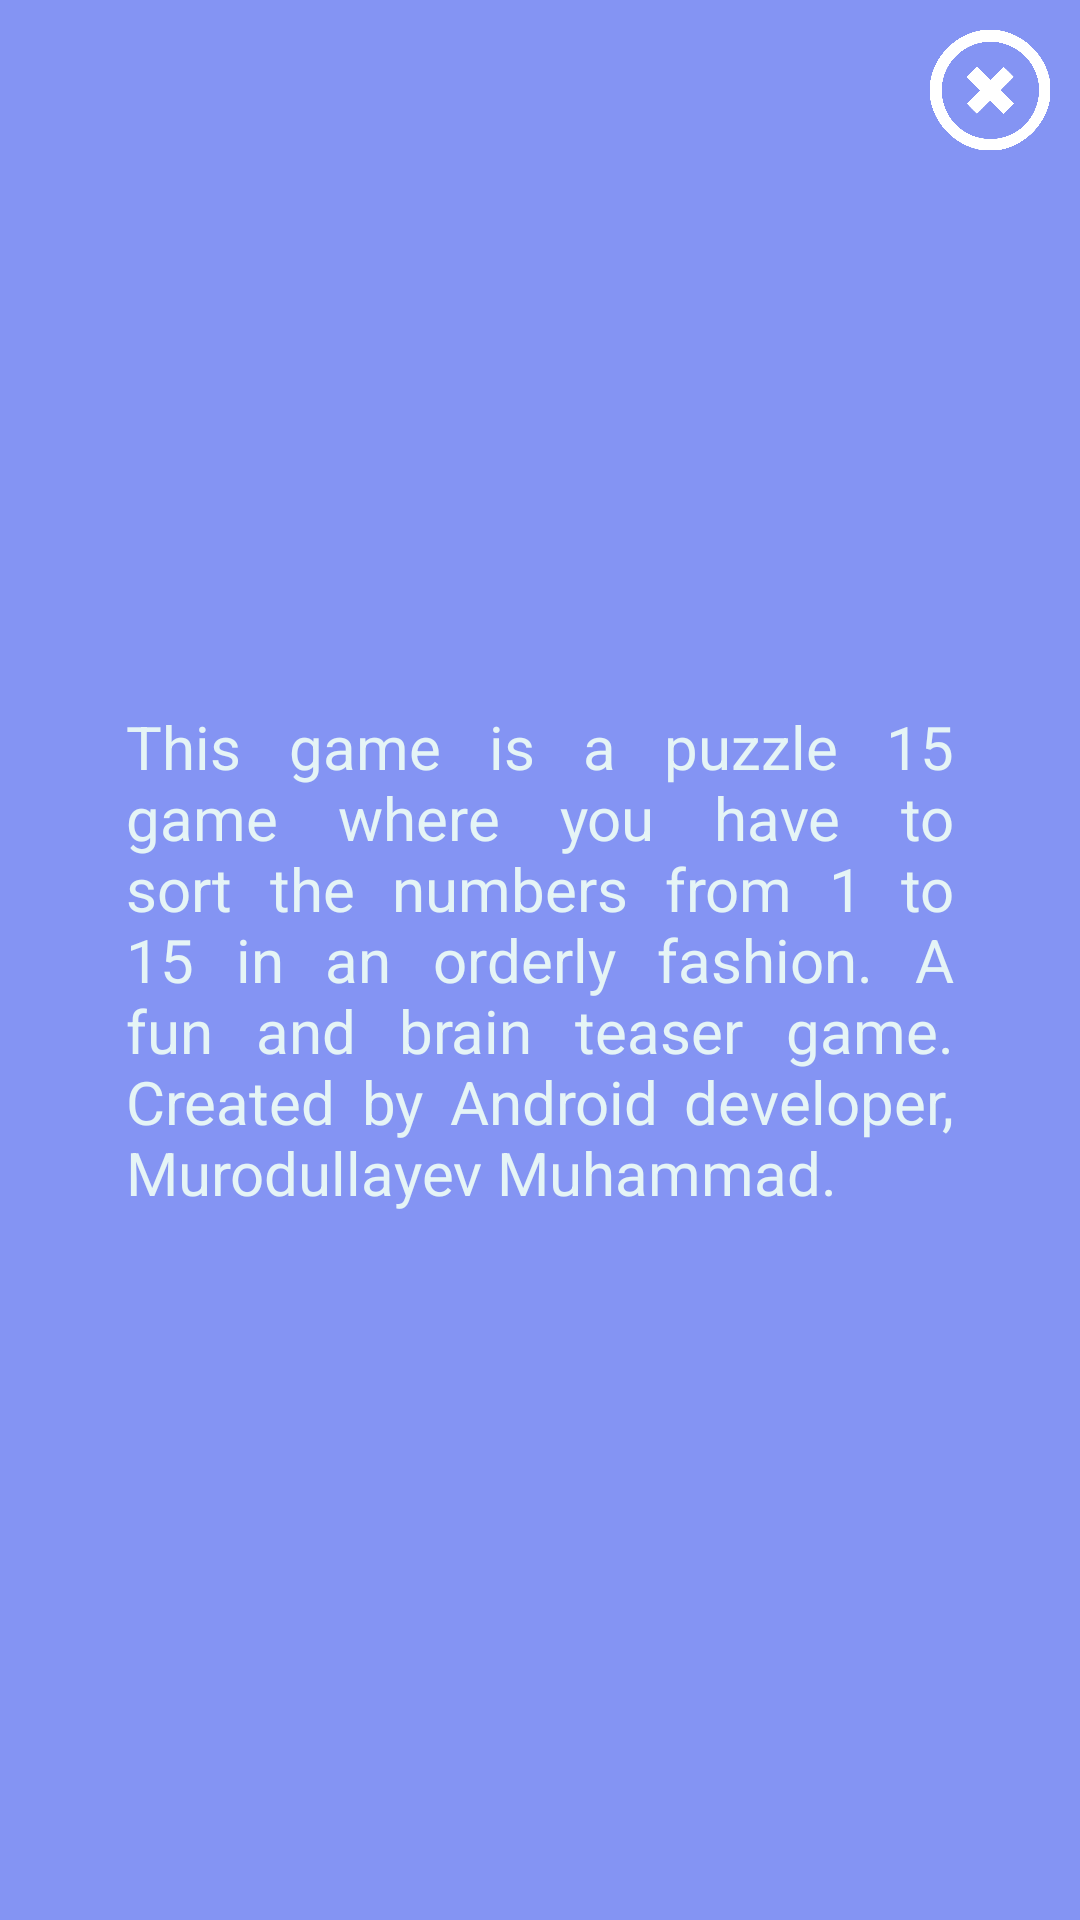

Icons on this 1080x1920 Android screen, each with the point to tap as (x,y):
close: (990,90)
